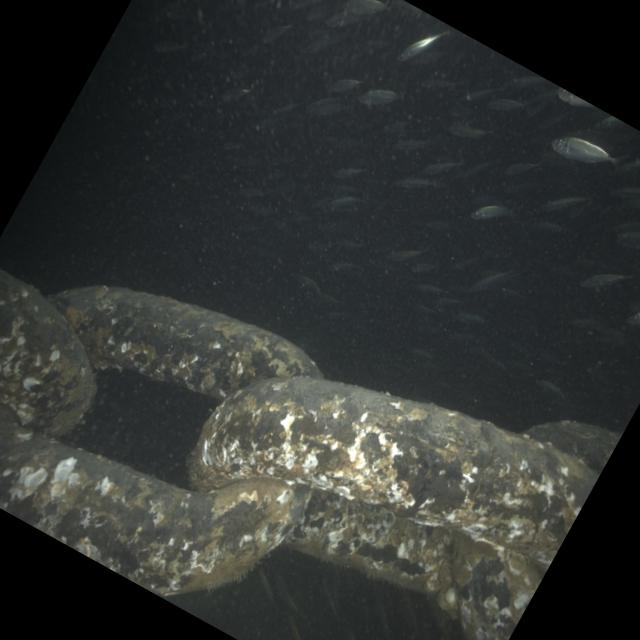ChainLink: (191, 377, 599, 572), (0, 417, 308, 596), (49, 286, 321, 400), (285, 490, 452, 596), (0, 272, 95, 437), (445, 532, 544, 640), (524, 421, 622, 475)
